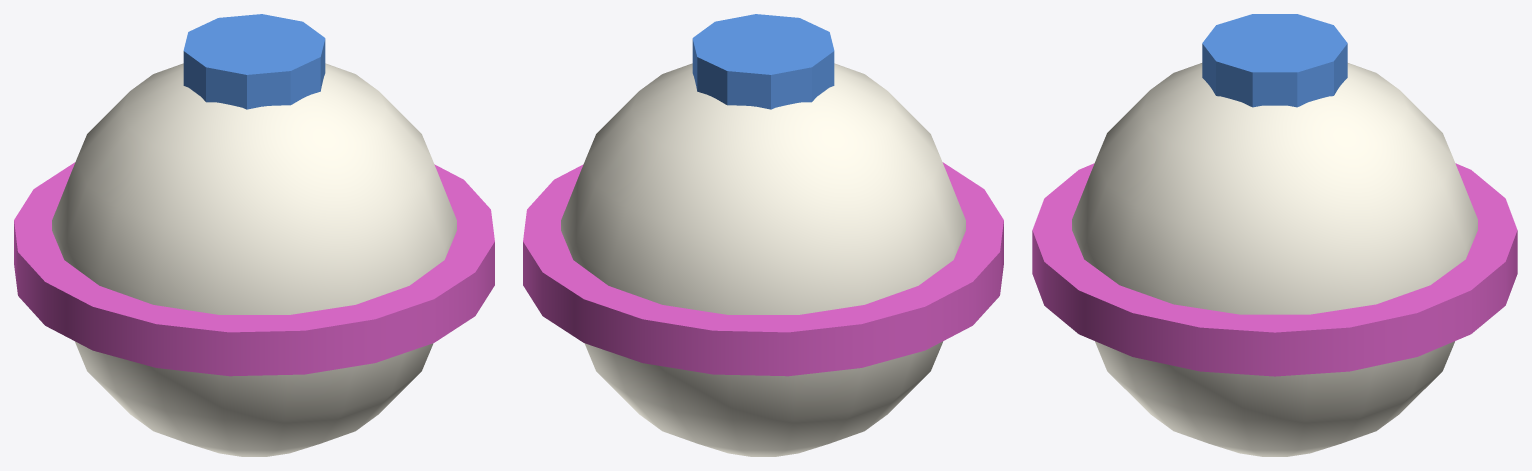
Rendered from Lamp_Cartoon.fbx.
3 views of the same model, side by side, from view 1: azimuth 30°, elevation 25°; view 2: azimuth 150°, elevation 25°; view 3: azimuth 270°, elevation 25° (orthographic).
Parts seen in each view (by area): view 1: Lamp_Cartoon; view 2: Lamp_Cartoon; view 3: Lamp_Cartoon.
Part boxes in pixels (box(x1,y1,x2,y2)): Lamp_Cartoon: box(14, 14, 494, 456); Lamp_Cartoon: box(523, 14, 1003, 456); Lamp_Cartoon: box(1032, 14, 1517, 456).
Bounding box in the file's own units: 0.4 × 0.36 × 0.4.
